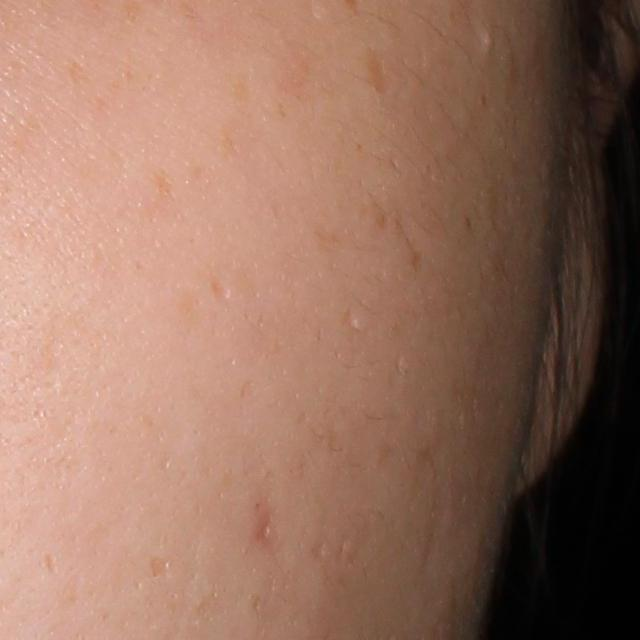atrophic_scar: (338, 306, 362, 334), (149, 554, 170, 583), (210, 281, 232, 300), (41, 550, 59, 573)
comedo: (478, 27, 497, 52)
melasma: (367, 48, 388, 96), (151, 166, 177, 202)
